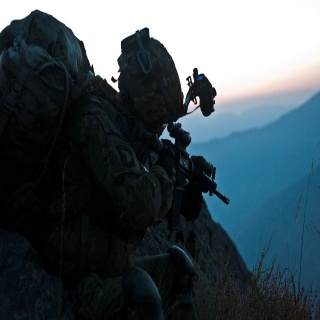rifle: (123, 113, 231, 232)
